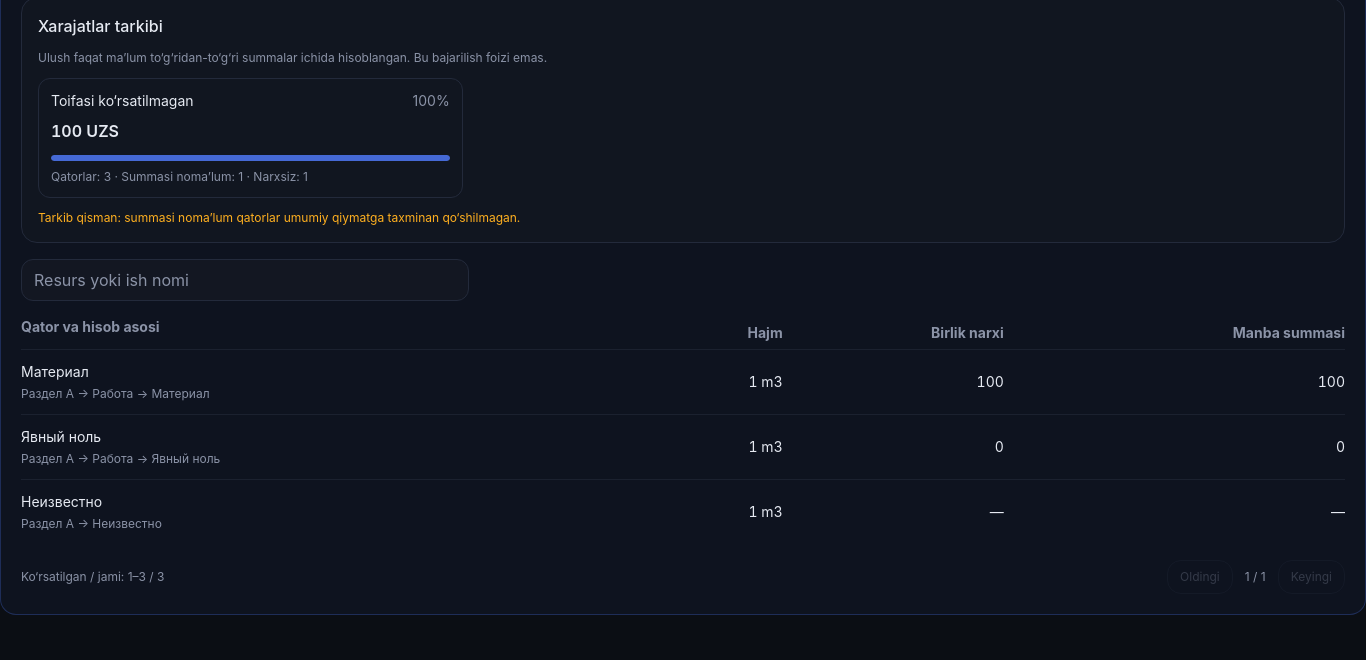
Test: drills into source amounts without changing a price
Click the button "Материал".
click(55, 372)  # box [21,362,89,382]
(page scrolled)
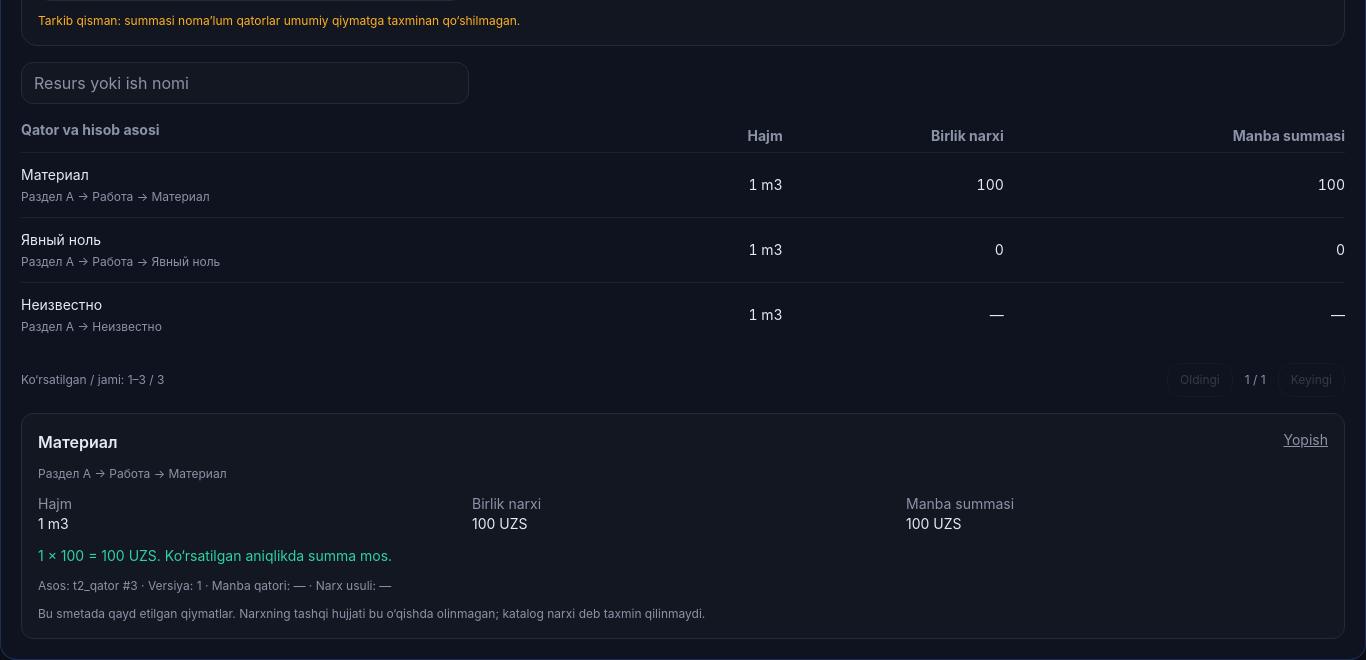
Check: the text "t2_qator #3" is shown, box [38,578,391,593]
Check: the text "1 × 100 = 100 UZS. Ko‘rsatilgan aniqlikda summa mos." is shown, box [38,547,392,564]
